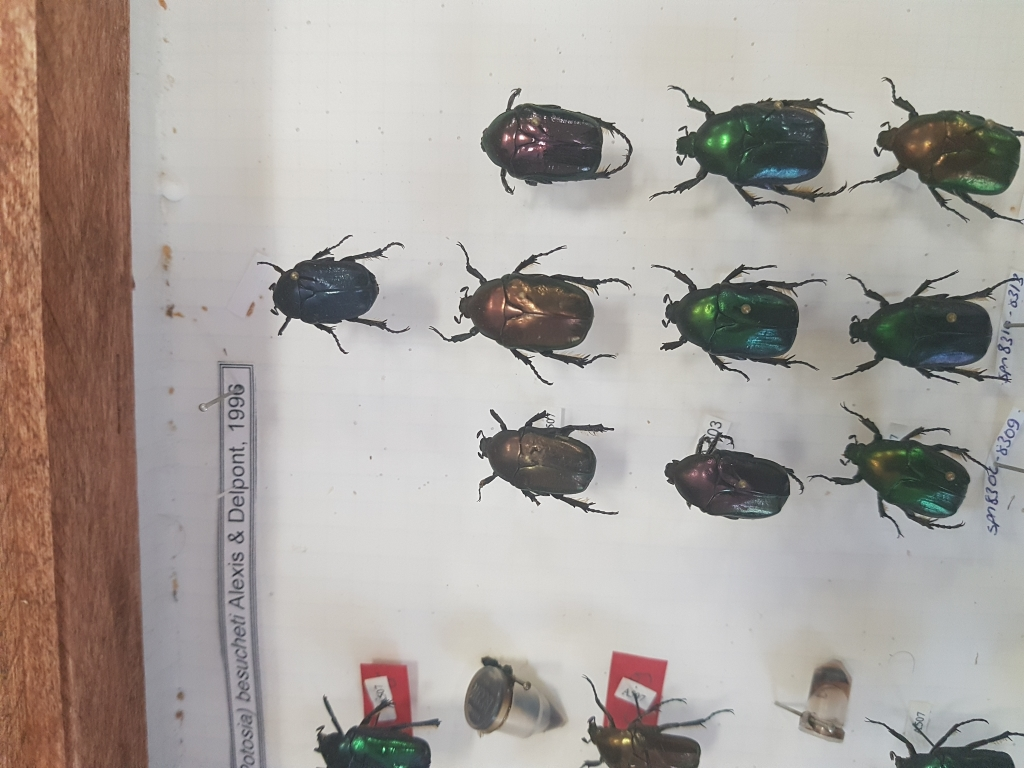Protaetia_besucheti: (439, 230, 646, 384), (655, 79, 853, 235), (820, 397, 1002, 561), (859, 67, 1024, 233), (838, 264, 1022, 407), (460, 394, 639, 534), (653, 251, 826, 388), (251, 225, 413, 358), (475, 79, 641, 201), (654, 413, 815, 531)
